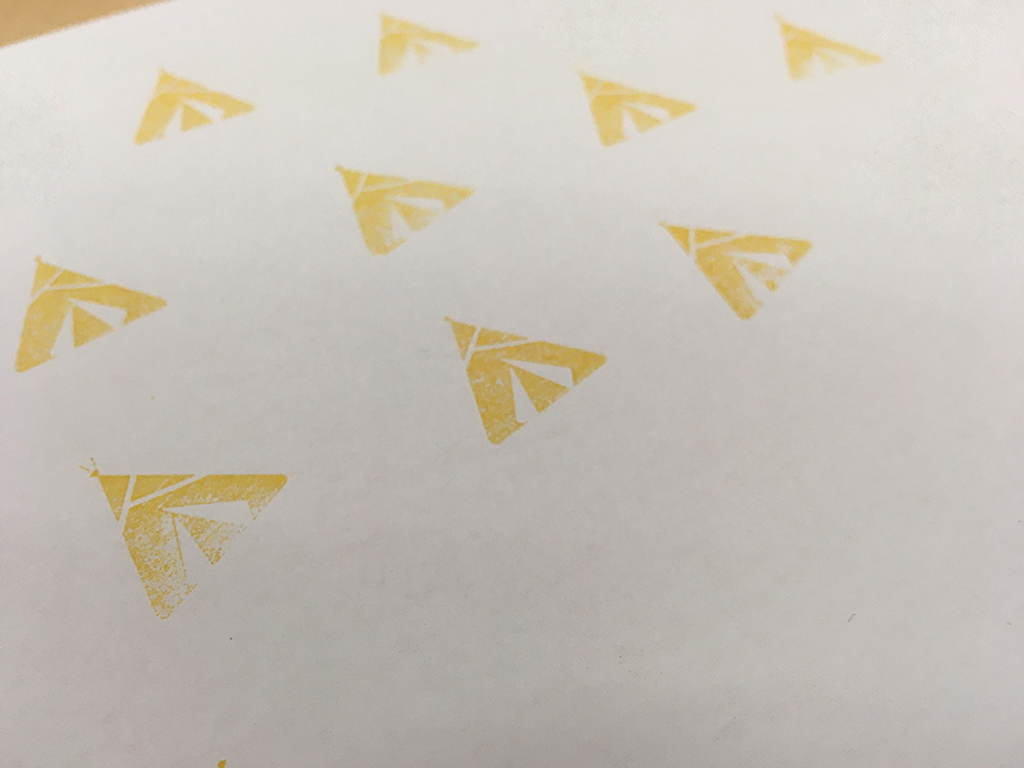tent: (69, 449, 295, 625), (433, 310, 619, 453), (647, 212, 824, 336), (10, 251, 175, 382), (326, 153, 485, 266), (124, 61, 266, 154), (567, 66, 707, 157), (766, 10, 891, 92), (373, 8, 483, 84)
